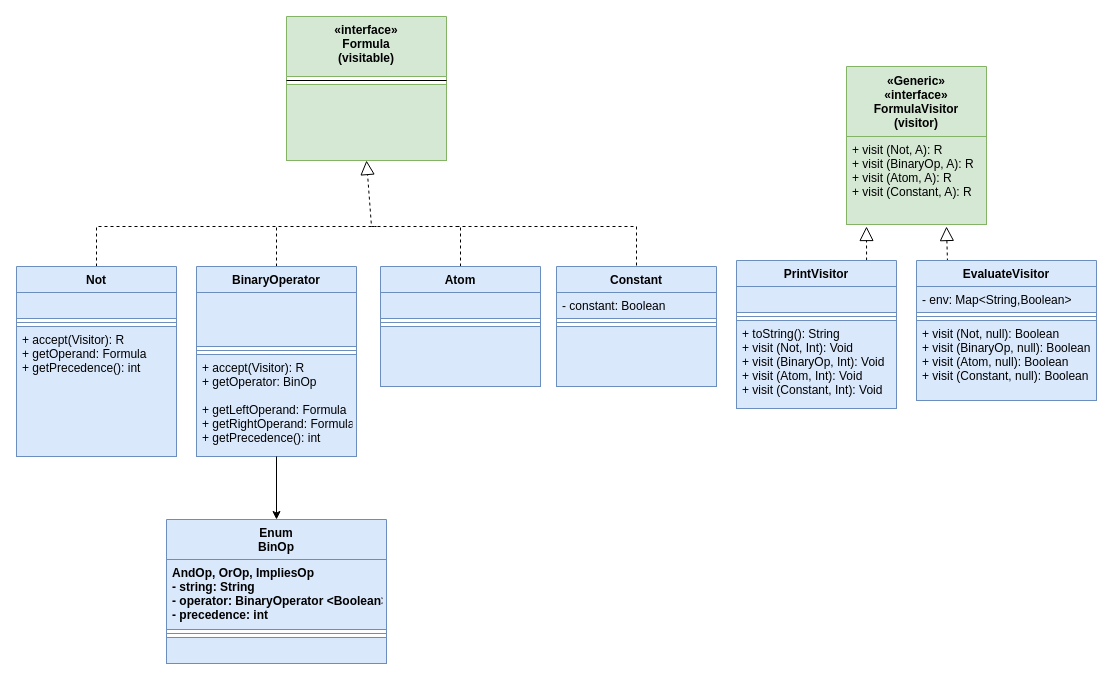
The diagram is 1113 pixels wide and 680 high, and some of its shapes have lost their labels. The centre of each missing label's shape, as x and y in pixels:
+ accept(Visitor): R + getAtomic: String + getPrecedence(): int: the point at 460,356
+ accept(Visitor): R + getConstant: Boolean + getPrecedence(): int: the point at 636,356
+ apply (Boolean, Boolean): Boolean: the point at 276,650
+ getPrecedence(): int + accept (Visitor, A a): R: the point at 366,122
- atomic: String: the point at 460,305
- operand: Formula: the point at 96,305
- operator: BinOp - leftOperand: Formula - rightOperand: the point at 276,319
- result: StringBuilder: the point at 816,299
